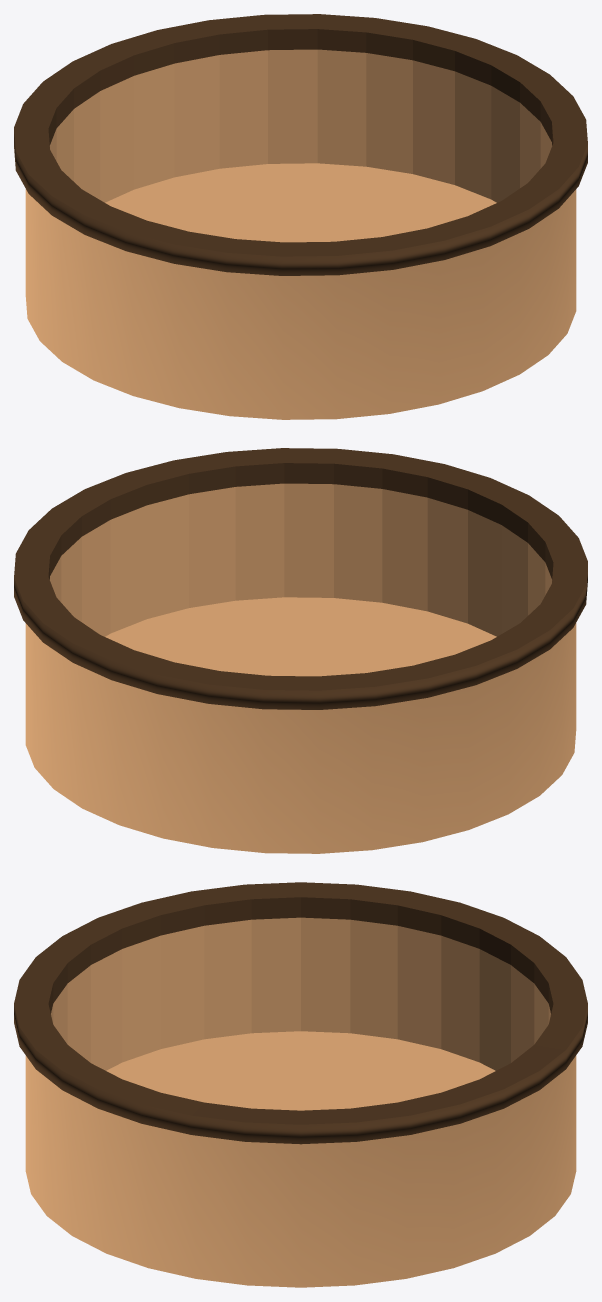
The model's file is CircularBin.fbx.
3 renders of one model, top to bottom at view 1: azimuth 30°, elevation 25°; view 2: azimuth 150°, elevation 25°; view 3: azimuth 270°, elevation 25°, orthographic.
Parts seen in each view (by area): view 1: Cylinder; view 2: Cylinder; view 3: Cylinder.
Boxes of the visible parts, x1=… form: Cylinder: x1=14, y1=14, x2=587, y2=419; Cylinder: x1=14, y1=448, x2=587, y2=853; Cylinder: x1=14, y1=882, x2=587, y2=1287.
Bounding box in the file's own units: 1031 × 333 × 1031.
